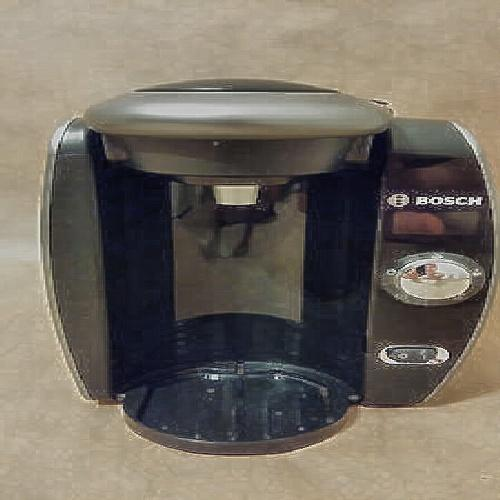coffee_maker: (49, 82, 480, 437)
